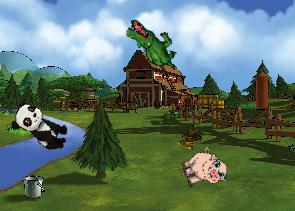crocodile: (118, 17, 186, 72)
panda: (7, 98, 74, 155)
pig: (177, 144, 230, 194)
